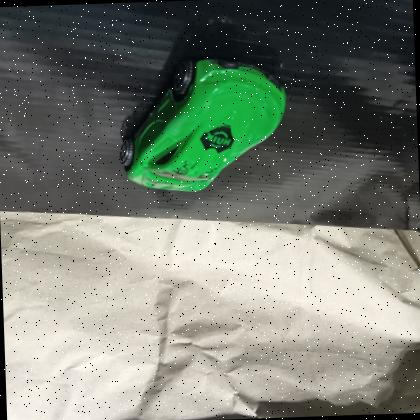Car: (112, 46, 299, 199)
